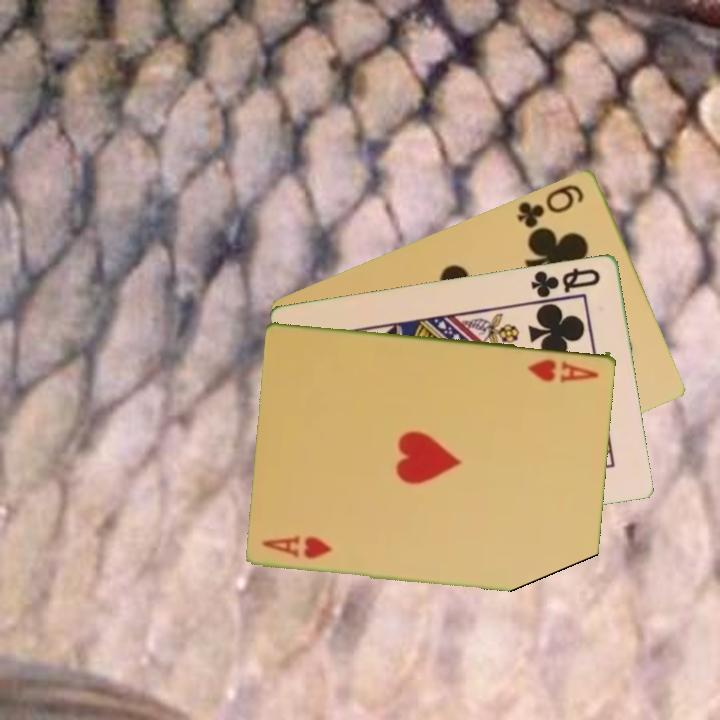6c: (513, 180, 587, 231)
Ah: (524, 355, 602, 385), (259, 533, 336, 562)
Qc: (527, 264, 604, 301)
